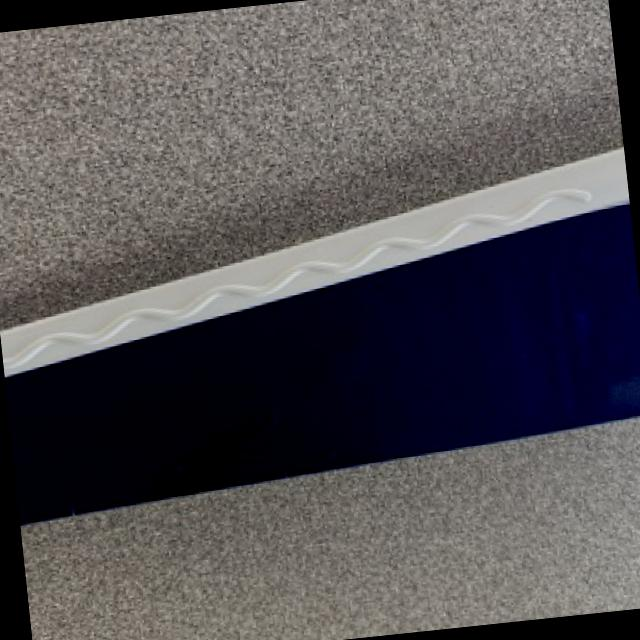healthy: (0, 147, 640, 519), (20, 416, 640, 640)
